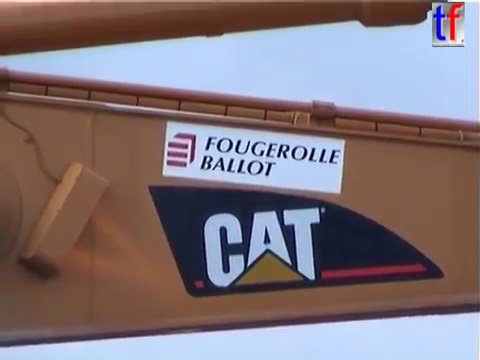excavator: (1, 1, 480, 351)
